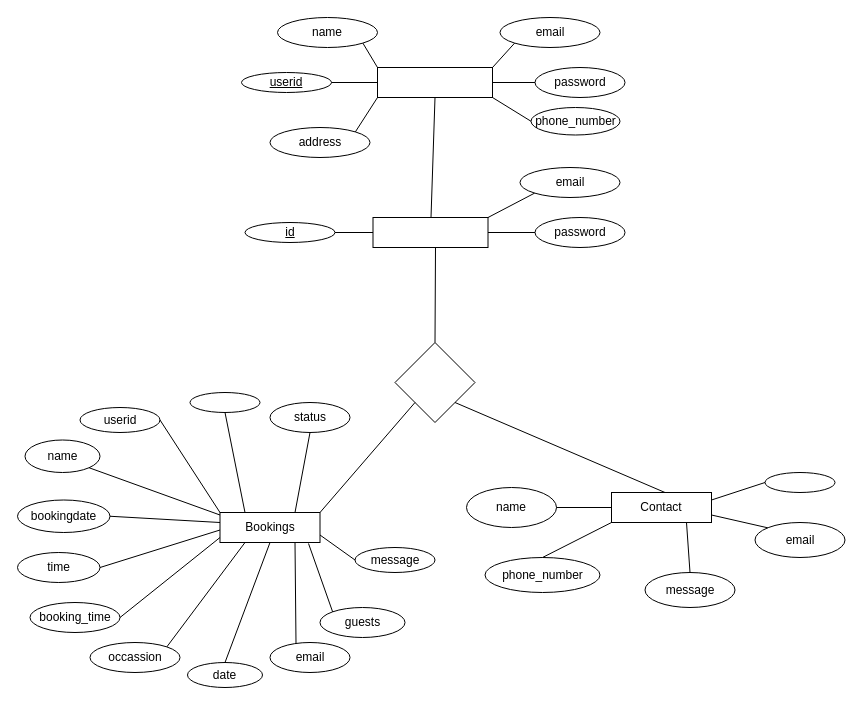
Some shapes in this 863 by 705 pixel diagram are drawn without their labels. Here are the shapes that lost their labels. From the top down, the box of each, then its label:
(376, 66, 492, 98): Register
(372, 216, 488, 248): Customer Login
(189, 392, 260, 412): bid
(394, 342, 475, 422): Writes
(764, 472, 835, 492): fid
